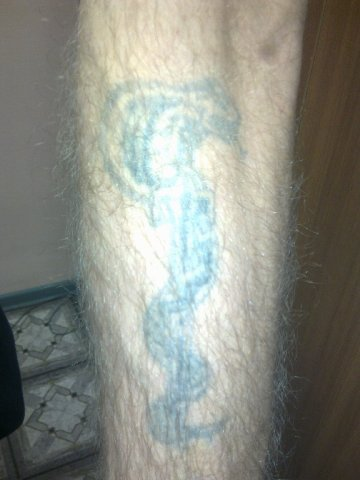tatu7_zmeya: (73, 41, 255, 446)
